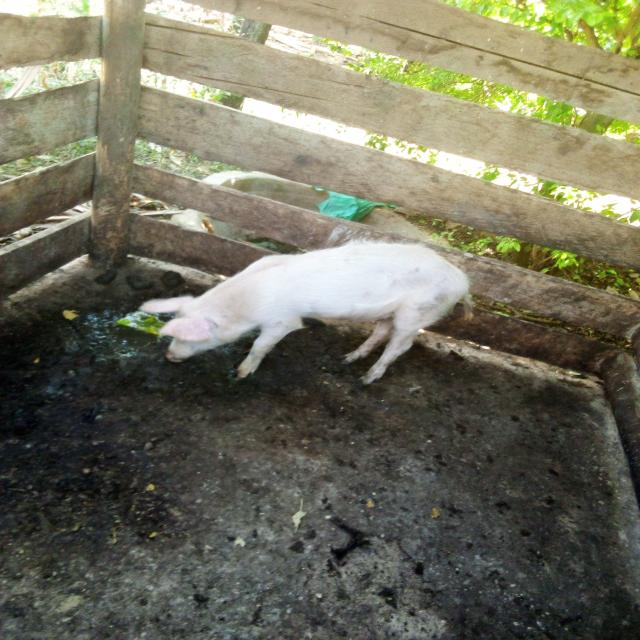pig: (97, 206, 538, 451)
